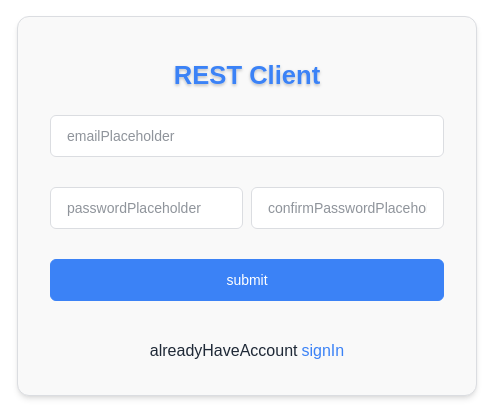
SignUp › shows auth error when sign up fails
The image size is (495, 417).
Type "test@user.com" into the field with placeholder "emailPlaceholder" at x=247, y=136, box [50, 115, 444, 157]
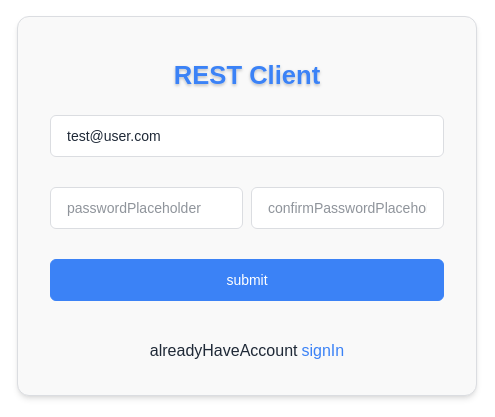
Type "OIndknaka1$" into the password field with placeholder "passwordPlaceholder" at x=146, y=208, box [50, 187, 243, 229]
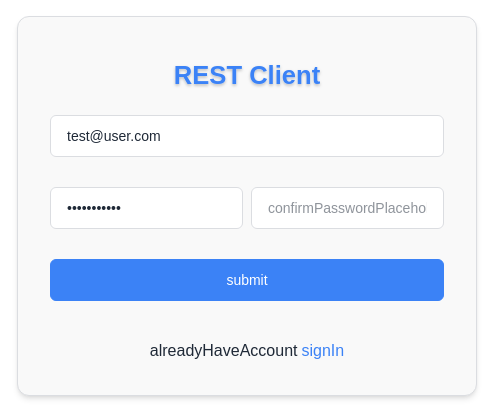
Type "OIndknaka1$" into the password field with placeholder "confirmPasswordPlaceholder" at x=348, y=208, box [251, 187, 444, 229]
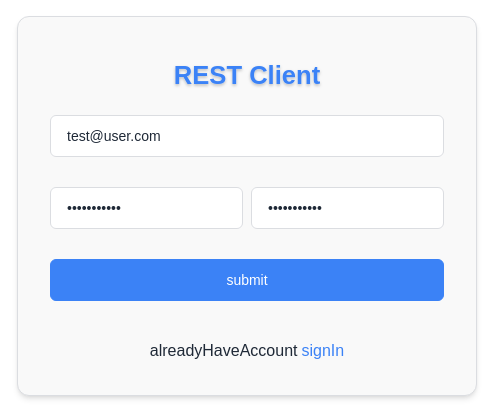
Click the button "submit" at x=247, y=280, box [50, 259, 444, 301]
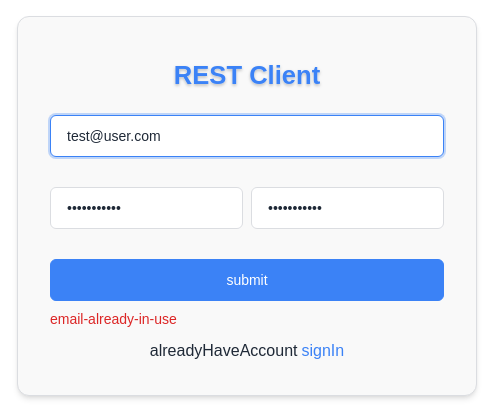
Check: the text "email-already-in-use" is shown, box [50, 311, 177, 327]
